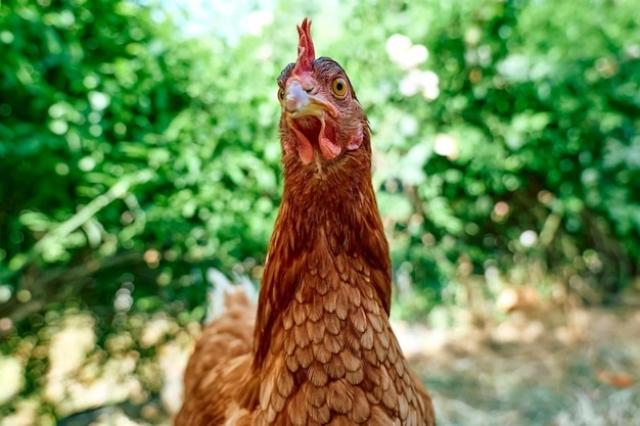Chicken: (171, 15, 438, 426)
